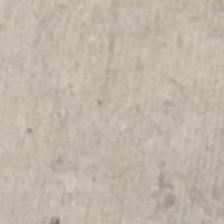Non_Crack: (23, 18, 198, 224)
